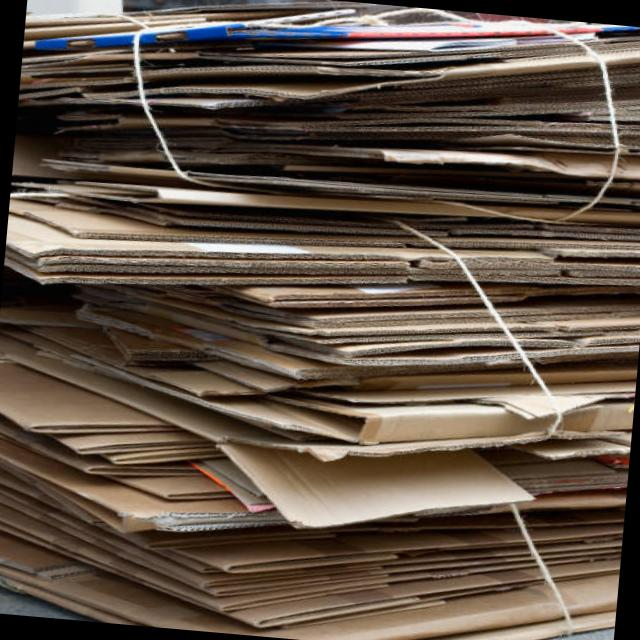electronic: (209, 425, 539, 550)
